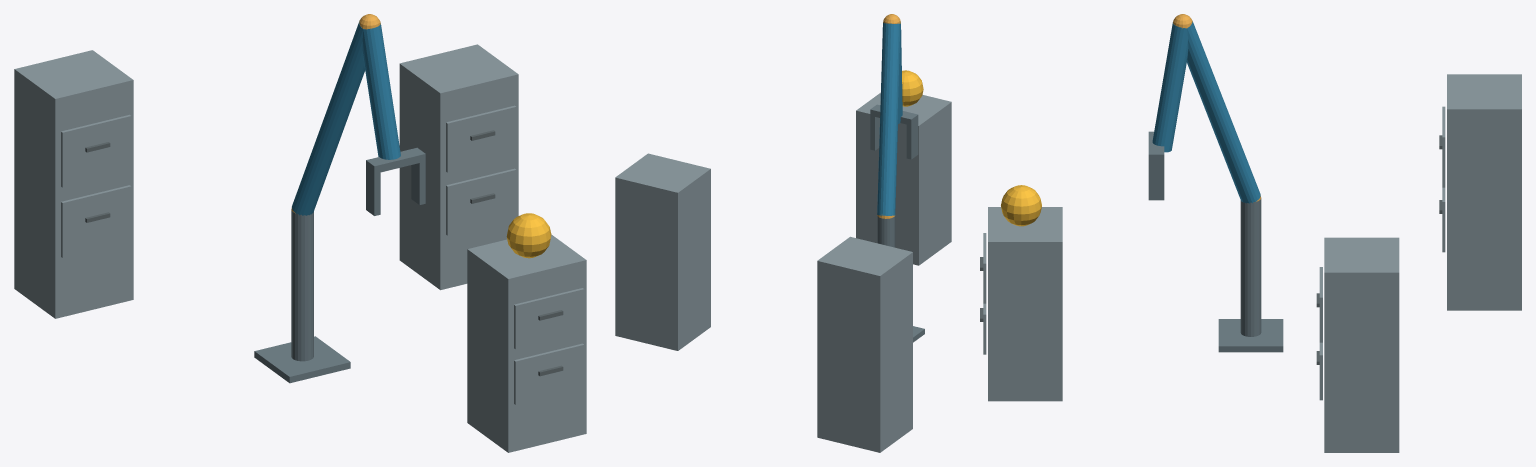
3 views of the same model, side by side, from view 1: azimuth 30°, elevation 25°; view 2: azimuth 150°, elevation 25°; view 3: azimuth 270°, elevation 25° (orthographic). The views are drawn at different scales.
Parts seen in each view (by area): view 1: cabinet_3 body, cabinet_1 body, cabinet_2 body, moving link 1, cabinet_3 drawer front, cabinet_3 drawer front.001, cabinet_2 drawer front.001, cabinet_2 drawer front, fixed post, cabinet_1 drawer front.001, cabinet_1 drawer front, moving link 2 (+5 smaller); view 2: cabinet_3 body, cabinet_2 body, cabinet_1 body, moving link 1, ball ball_1, fixed post, gripper finger -1; view 3: cabinet_3 body, cabinet_2 body, cabinet_1 body, moving link 1, fixed post, moving link 2, pedestal, ball ball_1, gripper finger 1.
Part boxes in pixels (x1,y1,x2,y2): cabinet_3 body: (14,50,133,318); cabinet_1 body: (467,234,586,452); cabinet_2 body: (399,44,518,290); moving link 1: (292,21,365,215); cabinet_3 drawer front: (61,185,131,257); cabinet_3 drawer front.001: (61,114,131,187); cabinet_2 drawer front.001: (446,105,516,172); cabinet_2 drawer front: (446,168,516,235); fixed post: (291,209,313,361); cabinet_1 drawer front.001: (514,288,584,349); cabinet_1 drawer front: (514,343,584,404); moving link 2: (362,23,400,159); cabinet_3 body: (817,236,912,452); cabinet_2 body: (615,153,710,350); cabinet_1 body: (856,92,951,265); moving link 1: (877,23,900,215); ball ball_1: (902,70,923,106); fixed post: (877,216,895,247); gripper finger -1: (906,121,918,159); cabinet_3 body: (1447,74,1521,310); cabinet_2 body: (1324,237,1399,452); cabinet_1 body: (988,207,1062,401); moving link 1: (1187,21,1260,203); fixed post: (1240,198,1261,336); moving link 2: (1152,22,1188,152); pedestal: (1218,319,1283,352); ball ball_1: (1001,185,1041,226); gripper finger 1: (1148,161,1164,200).
Bounding box in the file's own units: 1.62 × 1.44 × 2.1.
